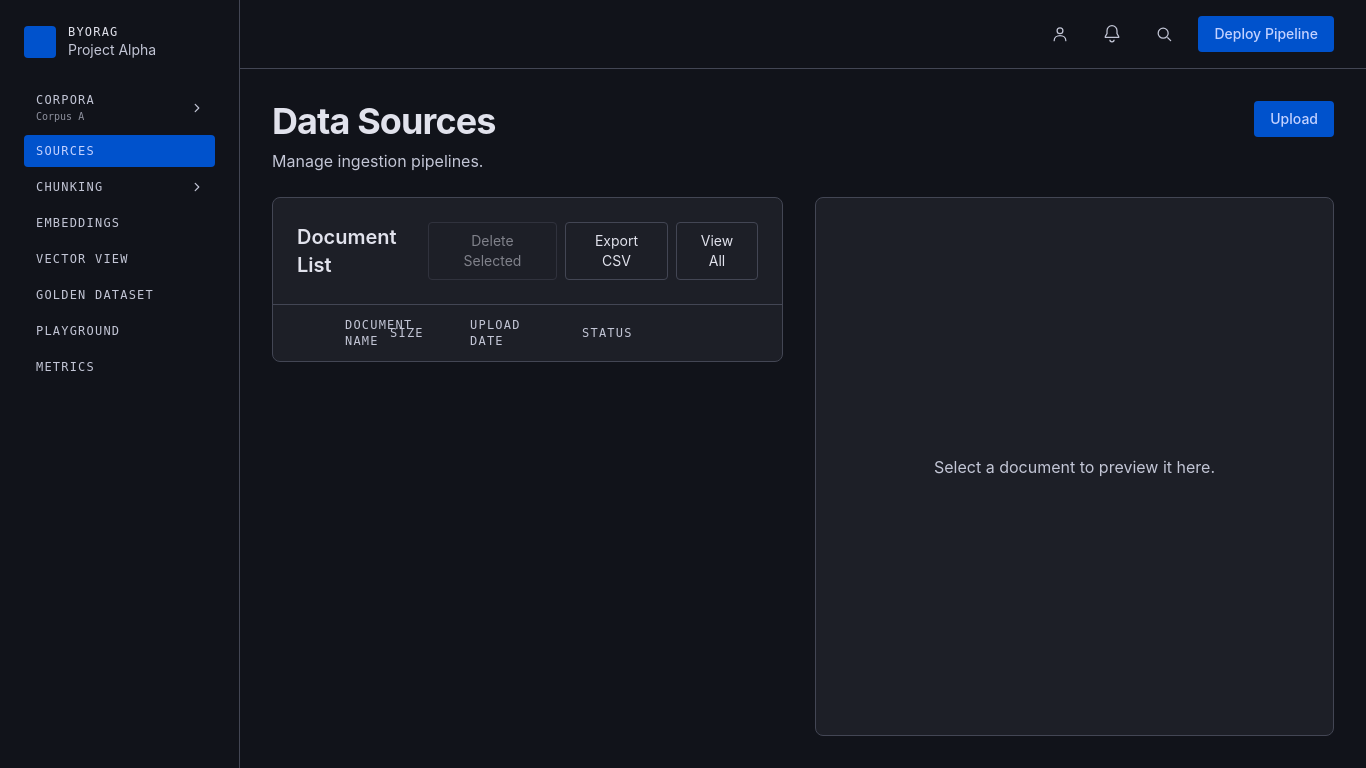
MetricsScreen — every pipeline for the active corpus is visible at once (031-playground-metrics-redesign US2) › shows both pipelines and their own metrics/no-scores state simultaneously, with no switcher
Click the link "METRICS": (66,367) 36,360 -> 95,374
(page scrolled)
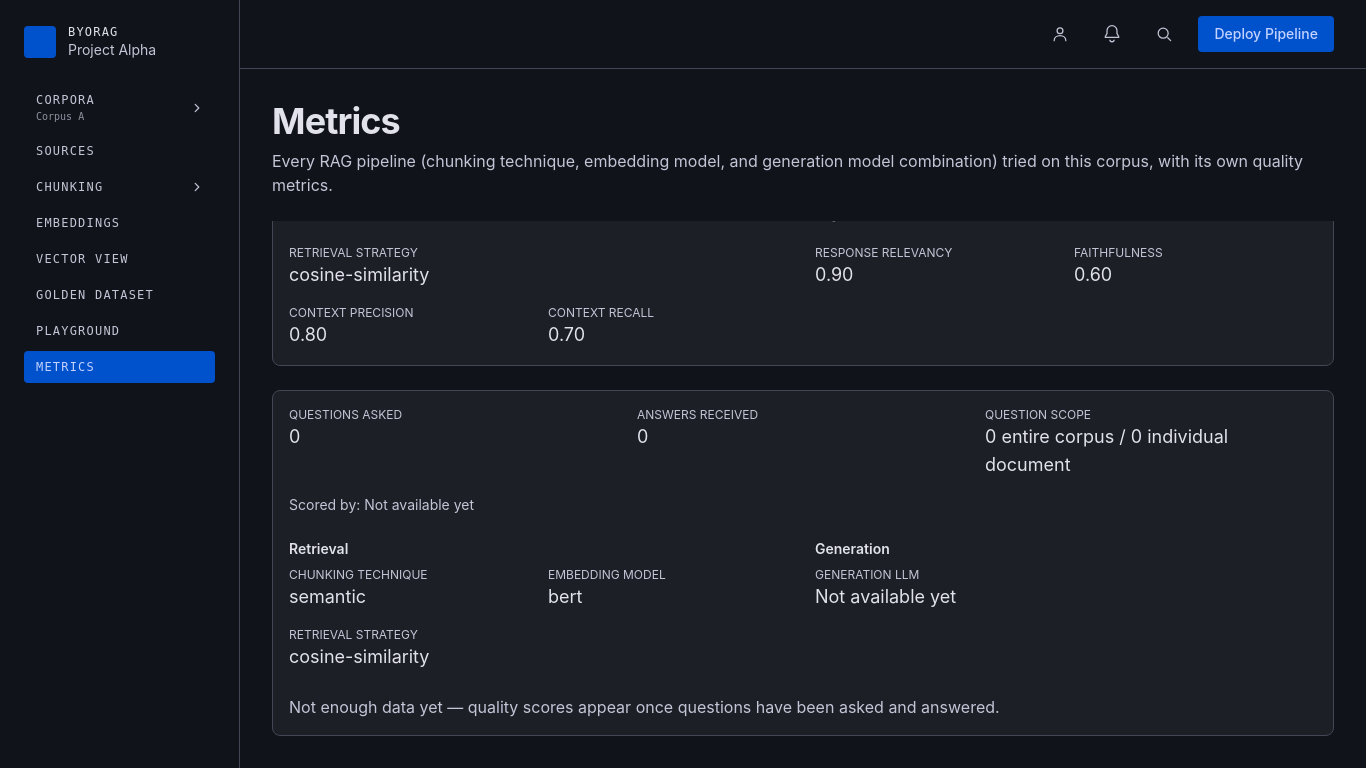
Expected: the element with test id "metrics-retrieval-scores" is shown, 289,305 -> 654,345
Expected: the element with test id "metrics-generation-scores" is shown, 815,245 -> 1163,285
Expected: the list item with test id "metrics-pipeline-semantic-bert" shows "semantic", 289,586 -> 366,607
